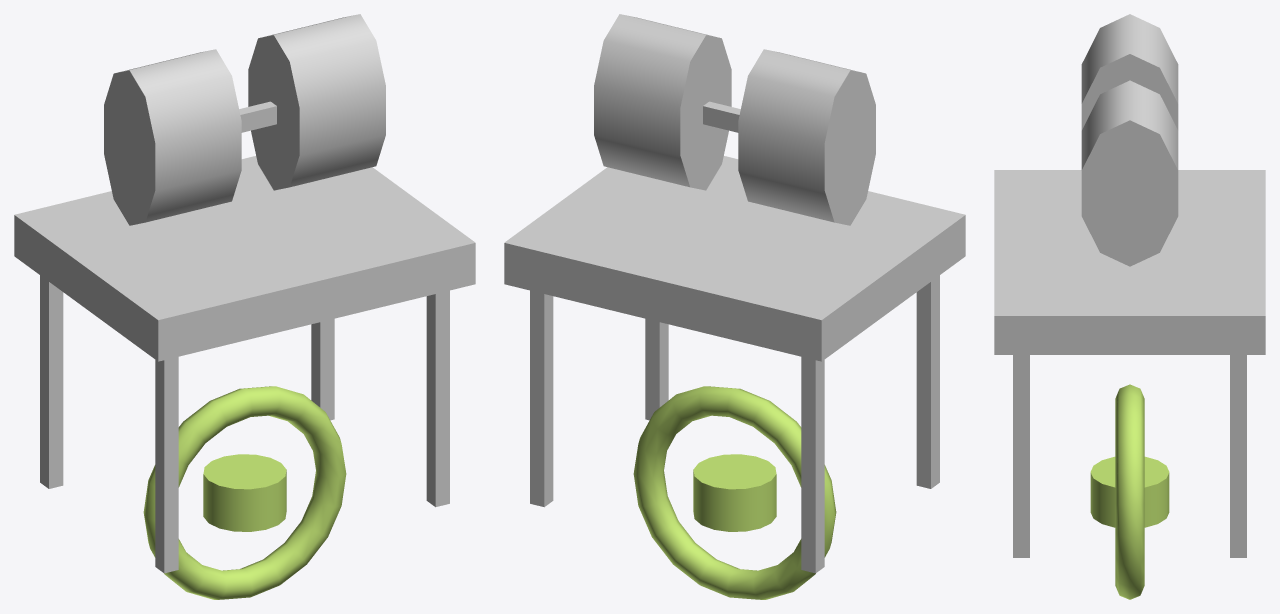
3 views of the same model, side by side, from view 1: azimuth 30°, elevation 25°; view 2: azimuth 150°, elevation 25°; view 3: azimuth 270°, elevation 25° (orthographic). The views are drawn at different scales.
Parts seen in each view (by area): view 1: worktable_5, drive_6, load_7, visualHandle, object 10, leg_2, leg_4, leg_1, leg_3, link_8; view 2: worktable_5, drive_6, load_7, visualHandle, object 10, leg_1, leg_3, leg_2, leg_4, link_8; view 3: worktable_5, load_7, drive_6, visualHandle, leg_3, leg_4, object 10.
Boxes of the visible parts, x1,y1,x2,y2 form: worktable_5: (14,156,475,361); drive_6: (104,49,241,225); load_7: (248,14,385,190); visualHandle: (143,386,346,599); object 10: (203,454,286,531); leg_2: (155,357,178,573); leg_4: (426,290,449,507); leg_1: (40,275,63,488); leg_3: (311,318,334,420); link_8: (239,101,276,132); worktable_5: (504,156,965,361); drive_6: (738,49,875,225); load_7: (594,14,731,190); visualHandle: (633,386,836,599); object 10: (693,454,776,531); leg_1: (801,357,824,573); leg_3: (530,290,553,507); leg_2: (916,275,939,488); leg_4: (645,318,668,420); link_8: (703,101,740,132); worktable_5: (994,170,1265,354); load_7: (1081,80,1178,266); drive_6: (1081,14,1178,130); visualHandle: (1115,384,1144,599); leg_3: (1230,355,1246,557); leg_4: (1013,355,1029,557); object 10: (1090,456,1169,527).
Bounding box in the file's own units: 1.4 × 2.34 × 1.1.
